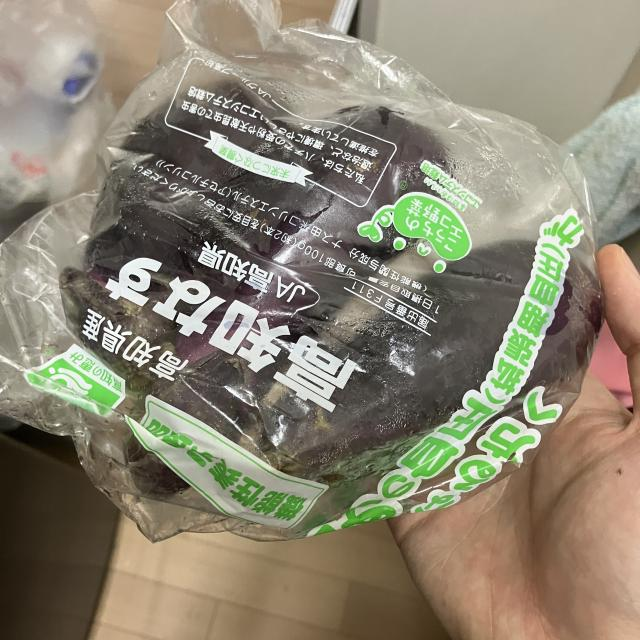eggplant: (118, 99, 453, 505), (252, 235, 604, 494), (55, 78, 291, 388)
